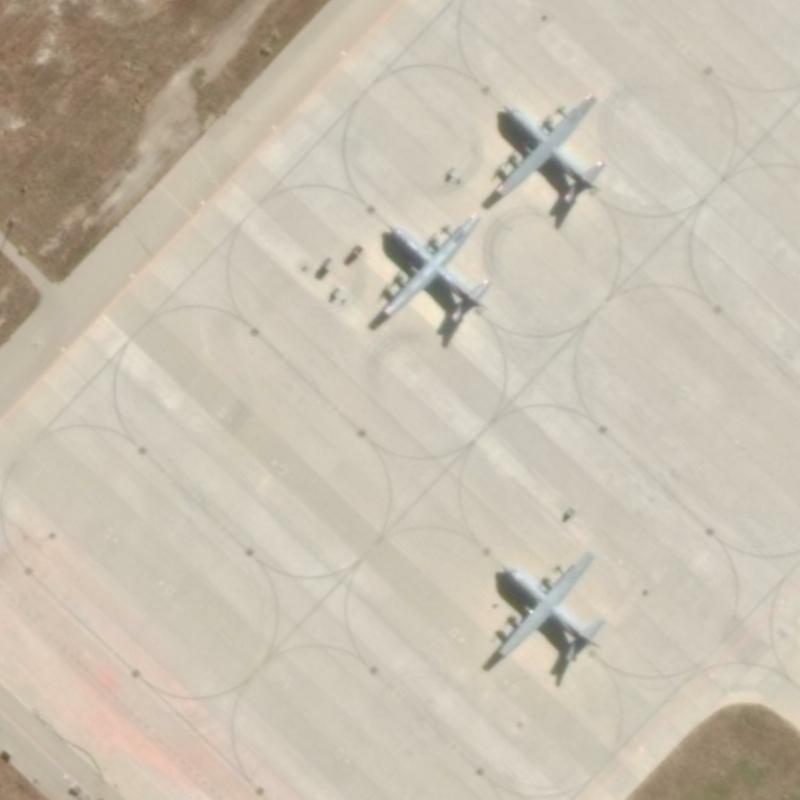A2: (472, 545, 613, 679), (483, 88, 613, 216), (368, 210, 498, 335)
